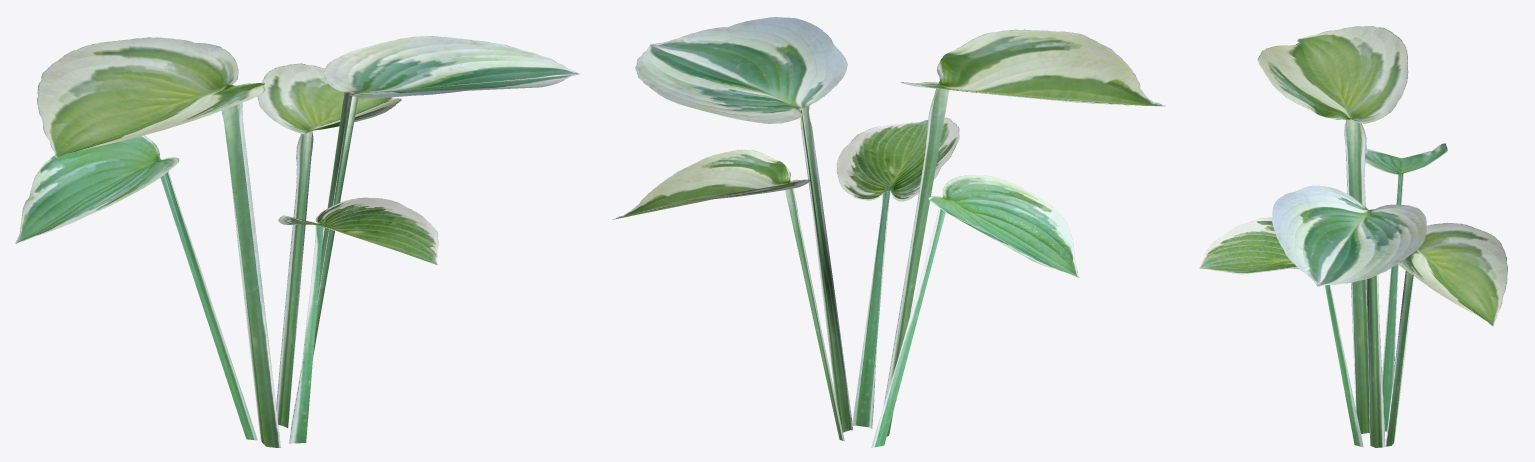
File: plant_small_wg_00Q.fbx
The picture shows the model from 3 angles, left to right: view 1: azimuth 30°, elevation 25°; view 2: azimuth 150°, elevation 25°; view 3: azimuth 270°, elevation 25°; orthographic projection. The views are drawn at different scales.
Visible parts, largest first — view 1: plant_small_wg_00Q; view 2: plant_small_wg_00Q; view 3: plant_small_wg_00Q.
Boxes of the visible parts, x1,y1,x2,y2 form: plant_small_wg_00Q: (15, 36, 579, 447); plant_small_wg_00Q: (612, 17, 1165, 447); plant_small_wg_00Q: (1199, 26, 1507, 447).
Size of the model in its own units: 47.61 by 35.56 by 31.5.
1 material, 1 textured.
